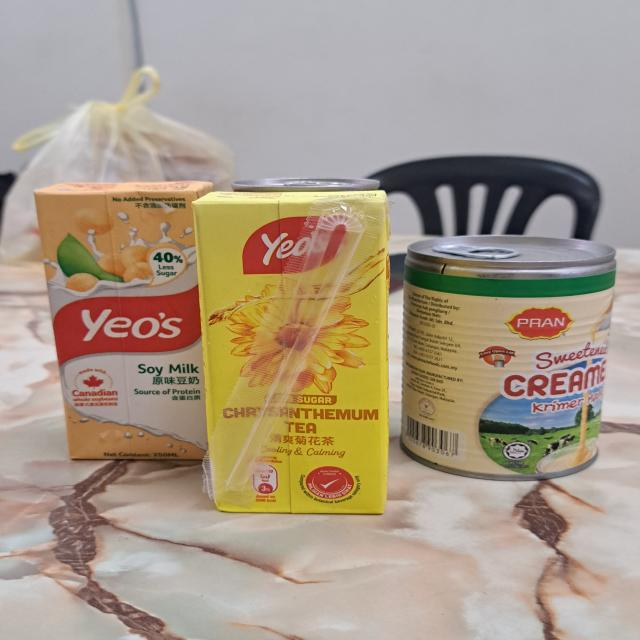can: (405, 233, 616, 479)
drink carton: (192, 189, 392, 517), (32, 179, 215, 461)
